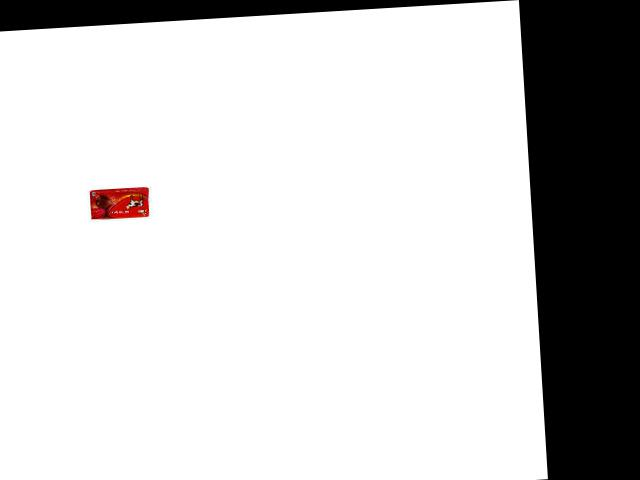chocolate: (88, 183, 153, 219)
